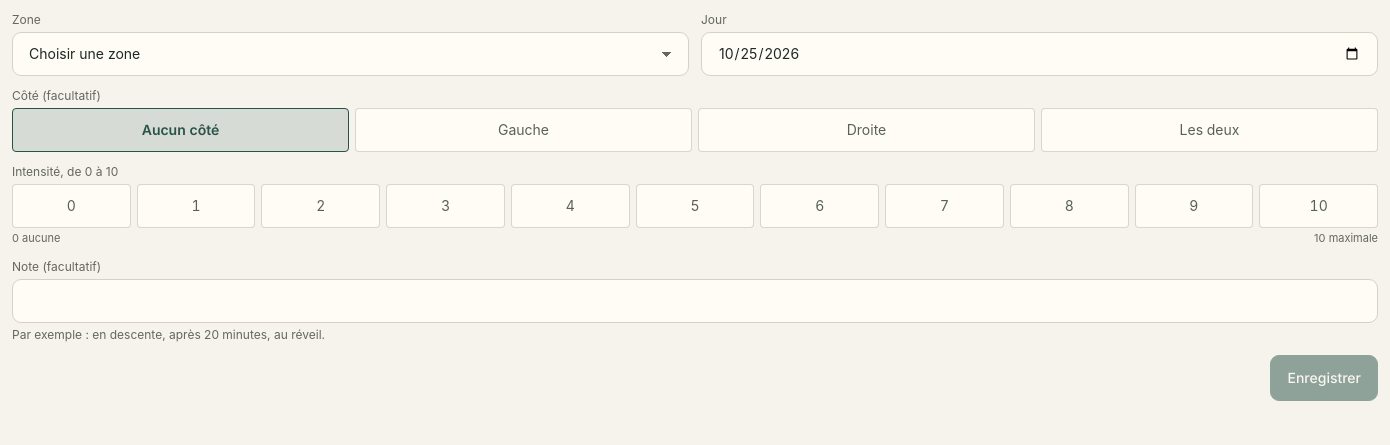
Scenario: says why a refused entry was not saved, and keeps it
The width and height of the screenshot is (1390, 445).
Select "Hanche" in the dropdown labelled "Zone" at (350, 54), box [12, 32, 689, 76]
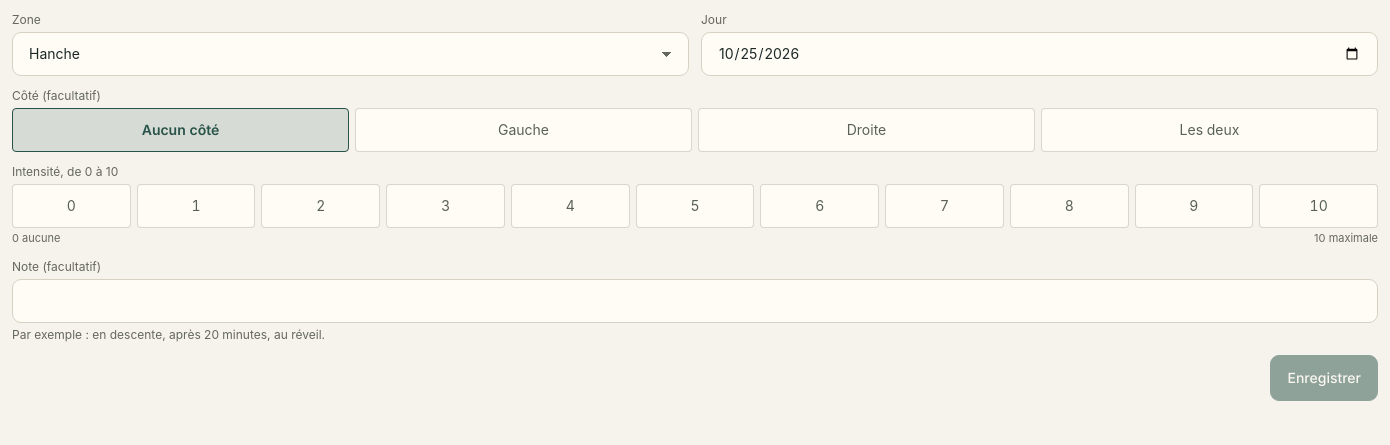
Click the radio button named "0 sur 10 — aucune" at (71, 206), box [12, 184, 131, 228]
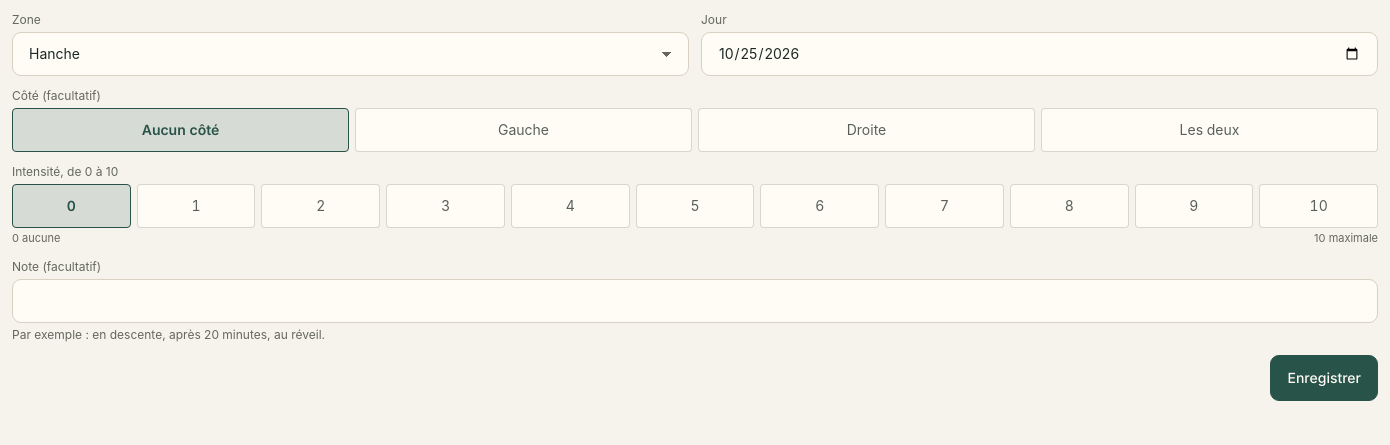
Click the button "Enregistrer" at (1324, 378), box [1270, 354, 1378, 400]
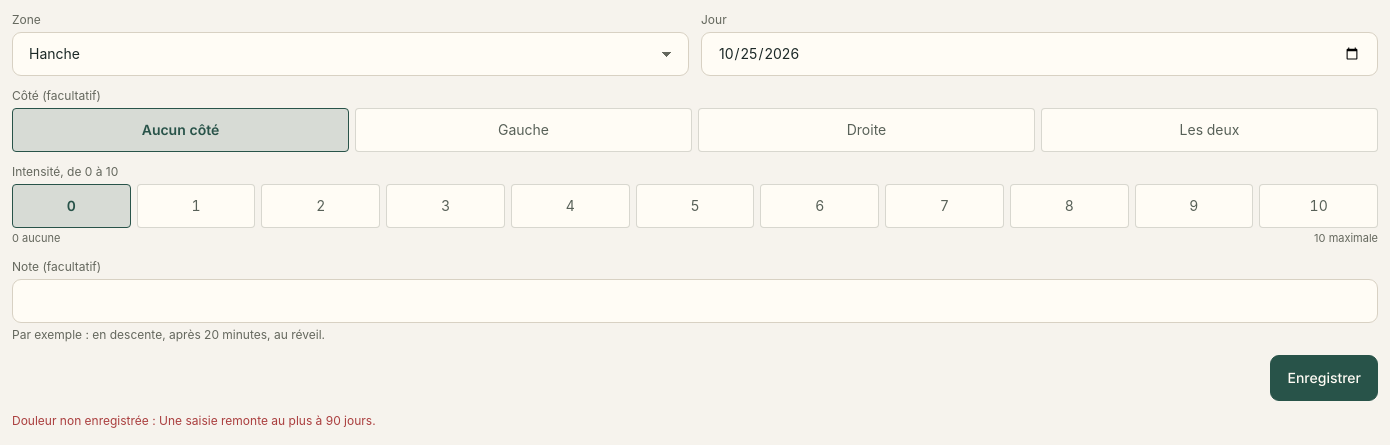
Check: the message shows "Une saisie remonte au plus à 90 jours.", box [159, 412, 376, 428]
